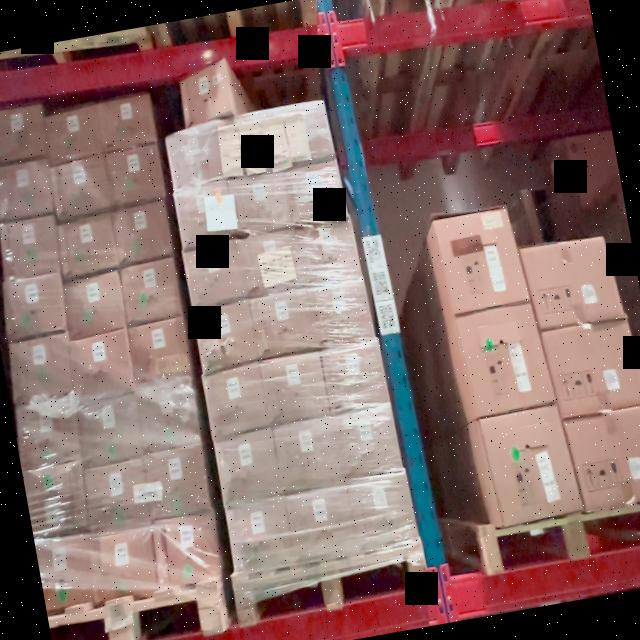box: (481, 404, 579, 524), (458, 304, 554, 417), (436, 206, 526, 314), (544, 317, 640, 417), (524, 232, 622, 329), (568, 407, 640, 510), (286, 489, 358, 564), (274, 418, 345, 492), (352, 474, 419, 549), (262, 352, 331, 423), (225, 500, 292, 573), (24, 463, 90, 537), (34, 534, 98, 610), (216, 430, 282, 503), (78, 396, 144, 466), (156, 516, 220, 588), (251, 290, 319, 357), (92, 530, 158, 599), (323, 342, 389, 410), (84, 462, 150, 530), (337, 408, 401, 478), (18, 398, 83, 466), (204, 366, 268, 434), (138, 382, 202, 450), (10, 333, 74, 401), (146, 448, 210, 516), (196, 302, 260, 370), (69, 331, 133, 399), (311, 281, 375, 347), (296, 218, 360, 284), (3, 273, 67, 338), (128, 317, 191, 383), (64, 273, 126, 338), (186, 244, 248, 308), (240, 230, 302, 294), (112, 201, 174, 264), (122, 259, 184, 322), (232, 172, 294, 234), (175, 183, 236, 246), (49, 155, 110, 217), (1, 216, 62, 278), (58, 214, 119, 276), (288, 160, 347, 224), (106, 144, 166, 205), (270, 106, 330, 164), (99, 94, 158, 151), (169, 128, 225, 187), (0, 159, 54, 219), (179, 66, 234, 124), (222, 118, 276, 176), (46, 107, 102, 161), (0, 104, 47, 162)
